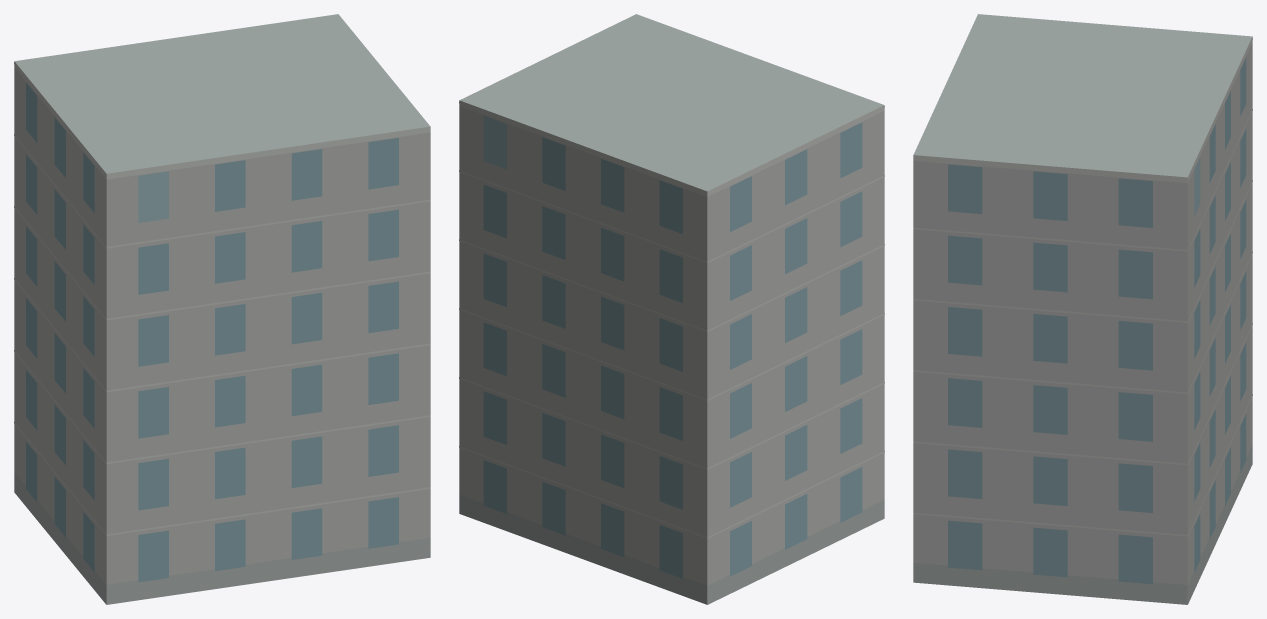
The model's file is survey-upis-33010626.glb.
3 renders of one model, left to right at view 1: azimuth 30°, elevation 25°; view 2: azimuth 150°, elevation 25°; view 3: azimuth 270°, elevation 25°, orthographic. The views are drawn at different scales.
Parts seen in each view (by area): view 1: survey-upis-33010626.tmp; view 2: survey-upis-33010626.tmp; view 3: survey-upis-33010626.tmp.
Part boxes in pixels (x1,y1,x2,y2): survey-upis-33010626.tmp: (14,14,430,604); survey-upis-33010626.tmp: (459,14,884,604); survey-upis-33010626.tmp: (913,14,1252,604).
Size of the model in its own units: 14.62 by 17.8 by 12.83.
